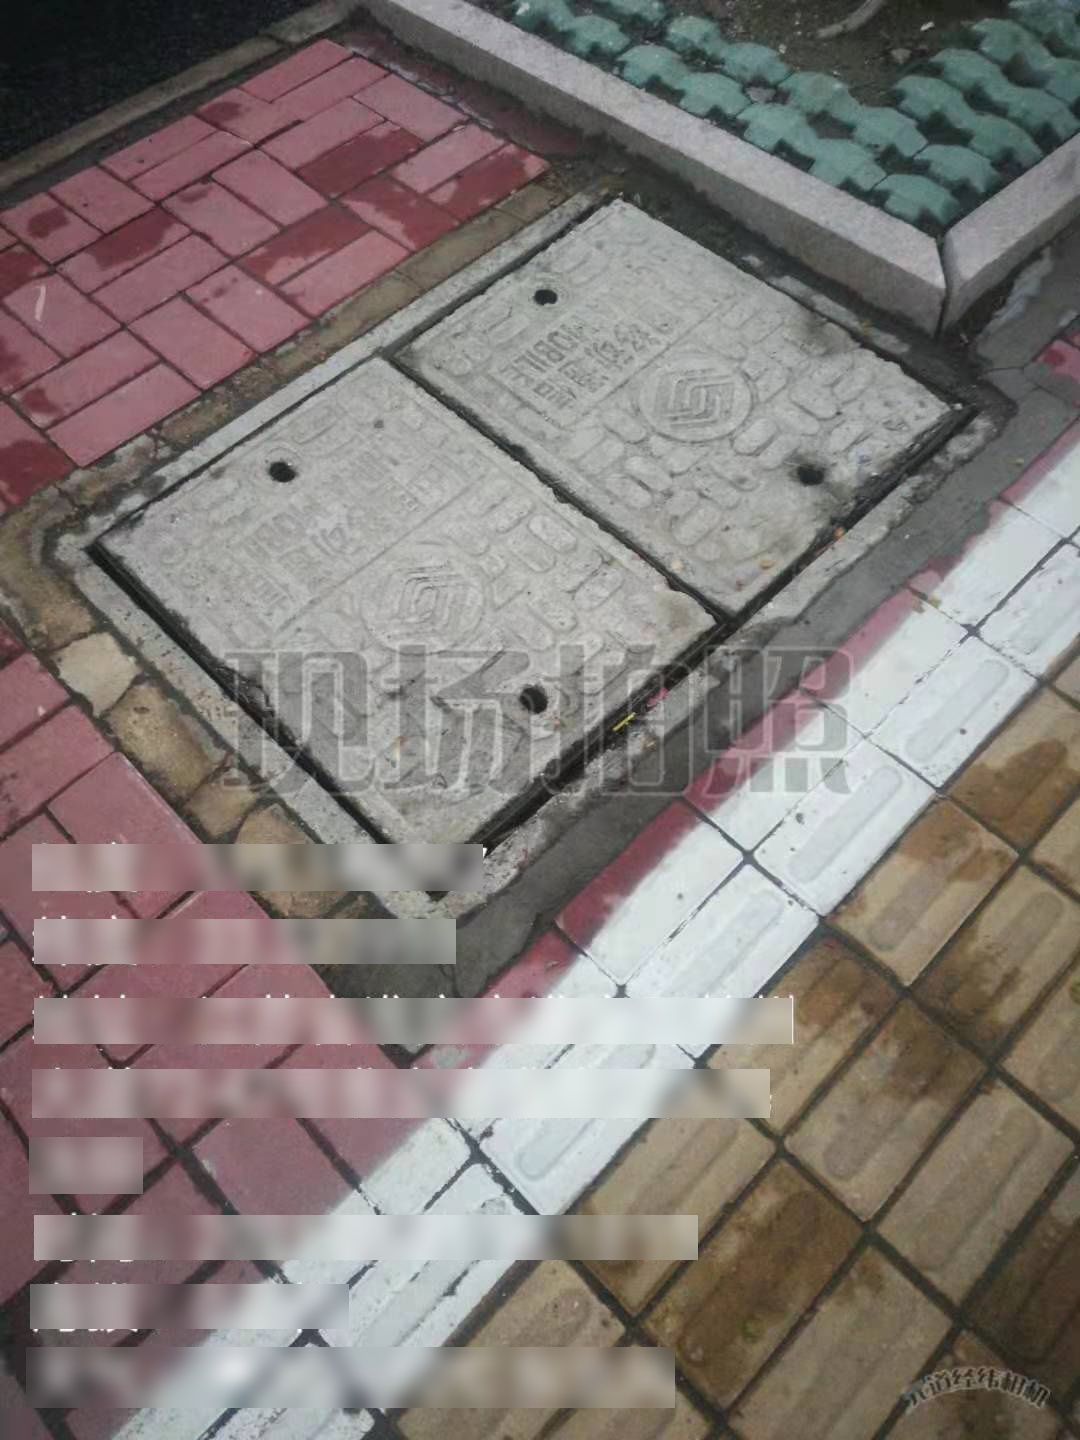well: (17, 17, 1058, 981)
